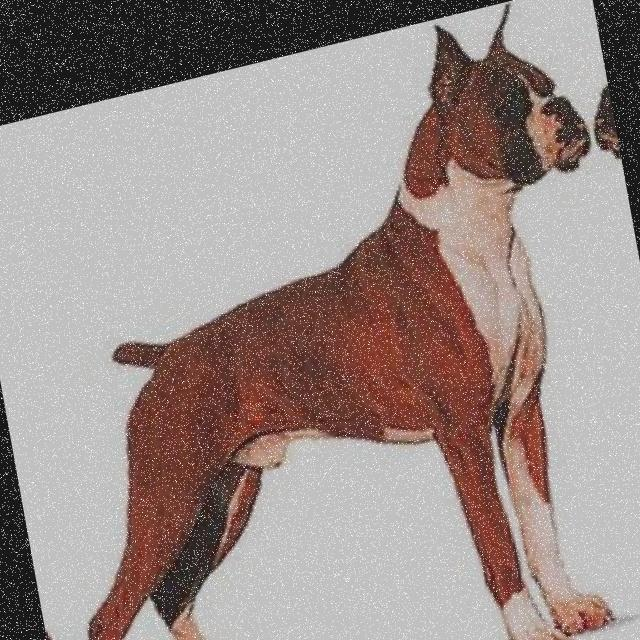dog: (0, 0, 640, 640), (0, 131, 95, 640), (567, 0, 640, 633)
